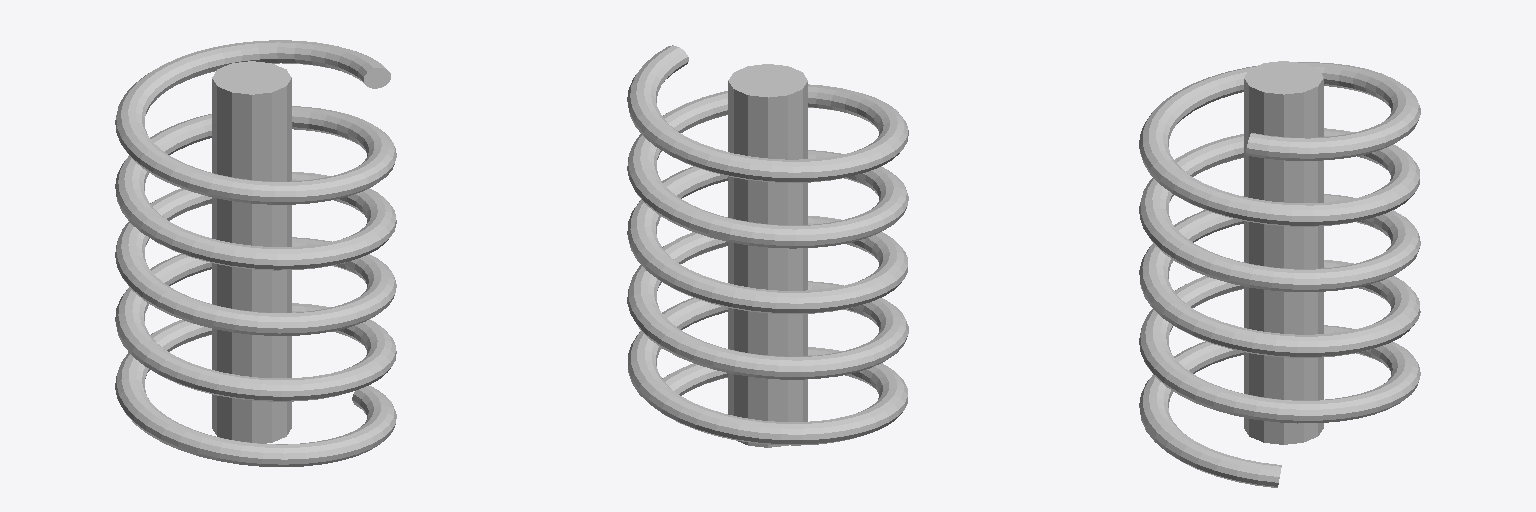
Rendered from robot_neck.obj.
The picture shows the model from 3 angles: view 1: azimuth 30°, elevation 25°; view 2: azimuth 150°, elevation 25°; view 3: azimuth 270°, elevation 25°; orthographic projection.
Parts seen in each view (by area): view 1: Helix02, Line02; view 2: Helix02, Line02; view 3: Helix02, Line02.
Boxes of the visible parts, x1=… form: Helix02: x1=115, y1=40, x2=396, y2=466; Line02: x1=212, y1=61, x2=291, y2=443; Helix02: x1=627, y1=45, x2=908, y2=445; Line02: x1=728, y1=64, x2=807, y2=447; Helix02: x1=1139, y1=62, x2=1420, y2=487; Line02: x1=1244, y1=61, x2=1323, y2=444.
Size of the model in its own units: 43.02 by 59.68 by 43.04.